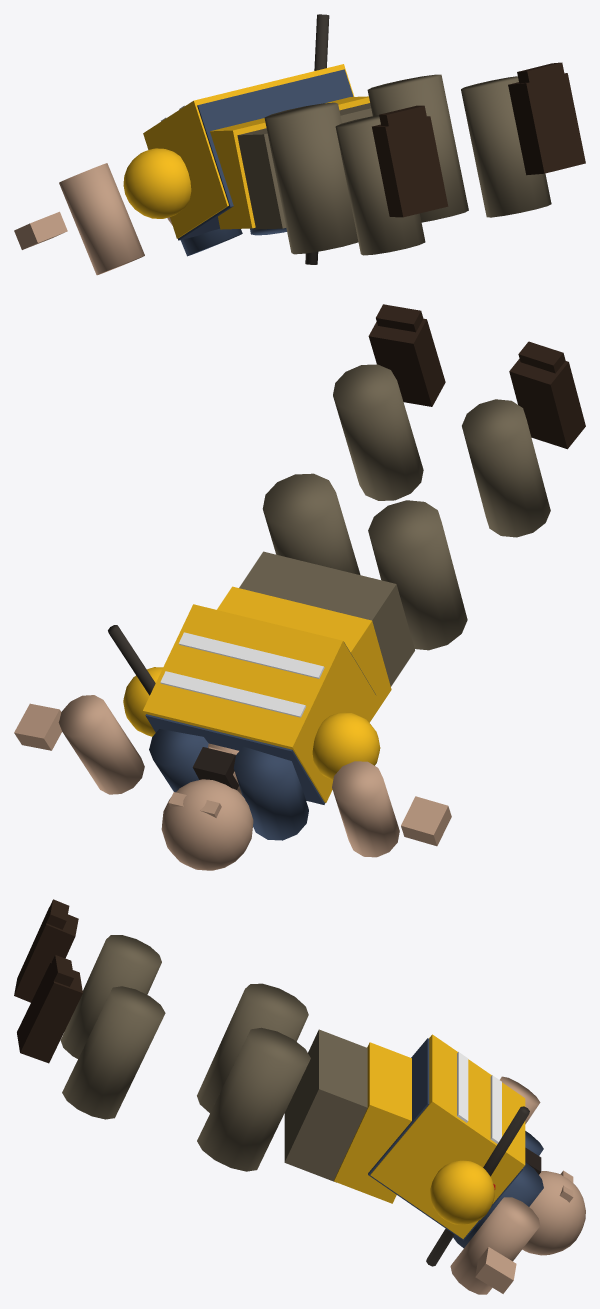
The model's file is zombie_heavy.obj.
3 views of the same model, one above another, from view 1: azimuth 30°, elevation 25°; view 2: azimuth 150°, elevation 25°; view 3: azimuth 270°, elevation 25° (orthographic). The views are drawn at different scales.
Parts seen in each view (by area): view 1: HeavyZombieMesh; view 2: HeavyZombieMesh; view 3: HeavyZombieMesh.
Boxes of the visible parts, left/top/right/bottom form: HeavyZombieMesh: left=14, top=14, right=585, bottom=275; HeavyZombieMesh: left=14, top=304, right=585, bottom=870; HeavyZombieMesh: left=14, top=899, right=585, bottom=1294.
Bounding box in the file's own units: 1.26 × 1 × 1.62.
